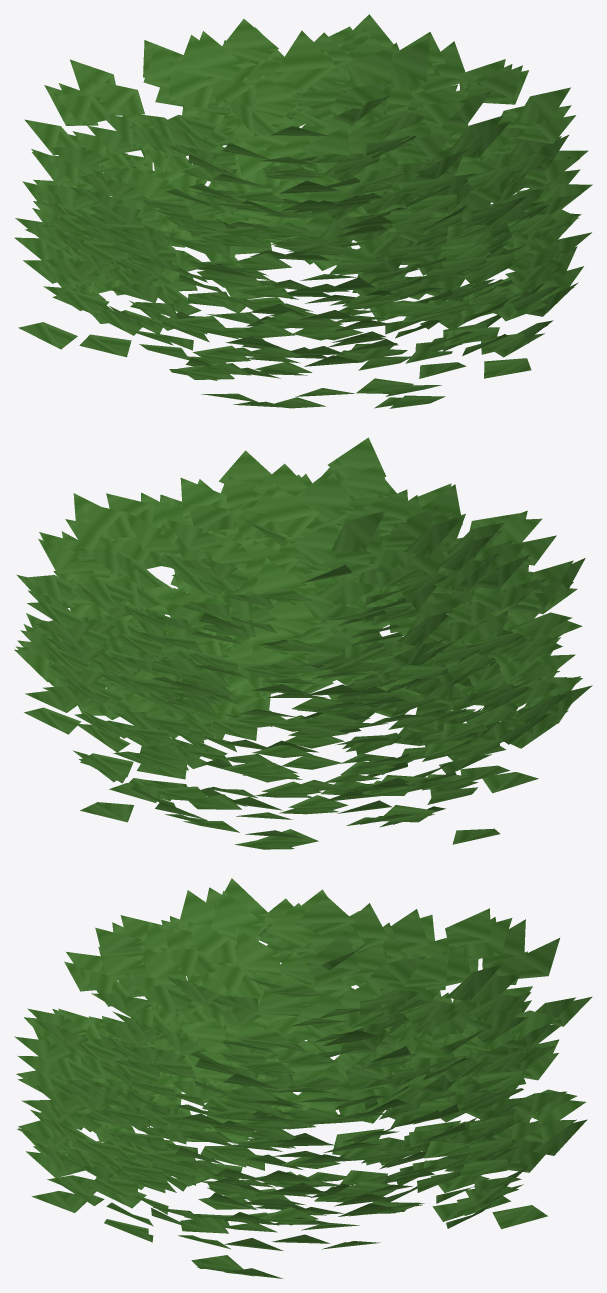
Rendered from garden_shrub.glb.
3 views of the same model, one above another, from view 1: azimuth 30°, elevation 25°; view 2: azimuth 150°, elevation 25°; view 3: azimuth 270°, elevation 25° (orthographic).
Visible parts, largest first — view 1: garden_shrub_Foliage; view 2: garden_shrub_Foliage; view 3: garden_shrub_Foliage.
Boxes of the visible parts, x1,y1,x2,y2 form: garden_shrub_Foliage: (14, 14, 592, 408); garden_shrub_Foliage: (14, 437, 592, 849); garden_shrub_Foliage: (14, 878, 592, 1278).
Bounding box in the file's own units: 1.77 × 0.8471 × 1.76.
Materials: 1 (1 with a texture image).
